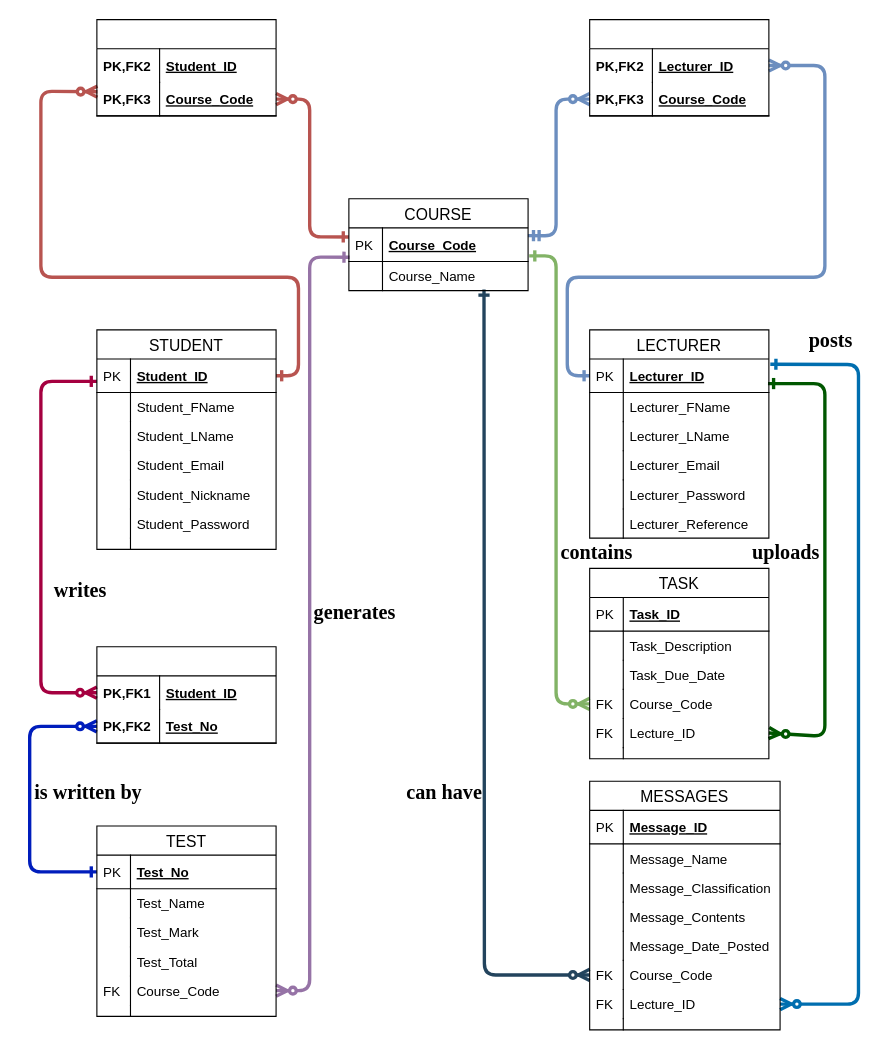
Image size: 889x1049. Some labels were removed from this diagram. Each missing label, with the box of its shape:
ENROLLED: (96, 18, 276, 116)
REGISTERED: (589, 18, 769, 116)
WROTE: (96, 646, 276, 743)
